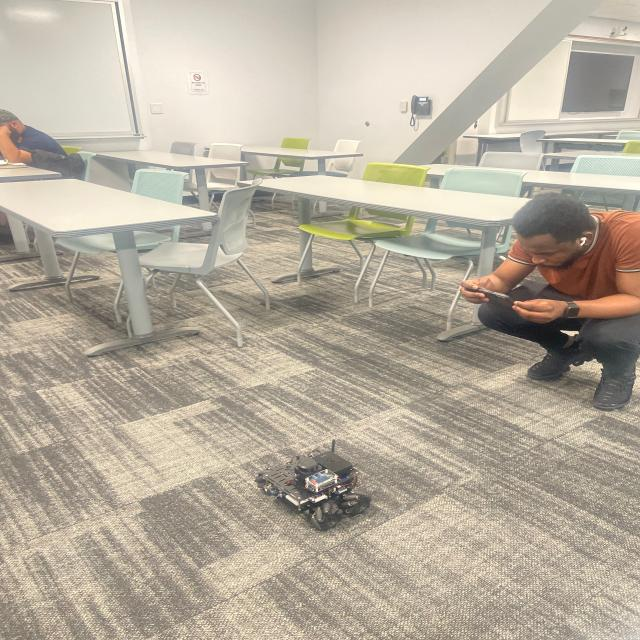ArduinoCar: (253, 440, 374, 530)
